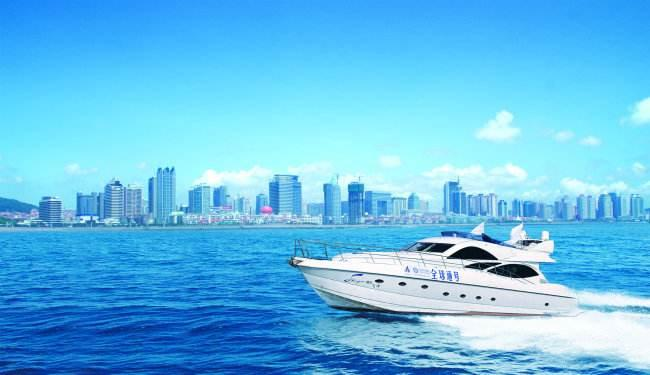yacht: (286, 217, 586, 311)
